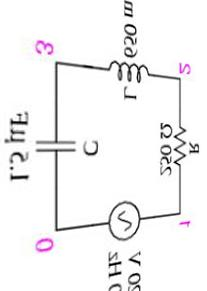inductor: (94, 61, 157, 78)
